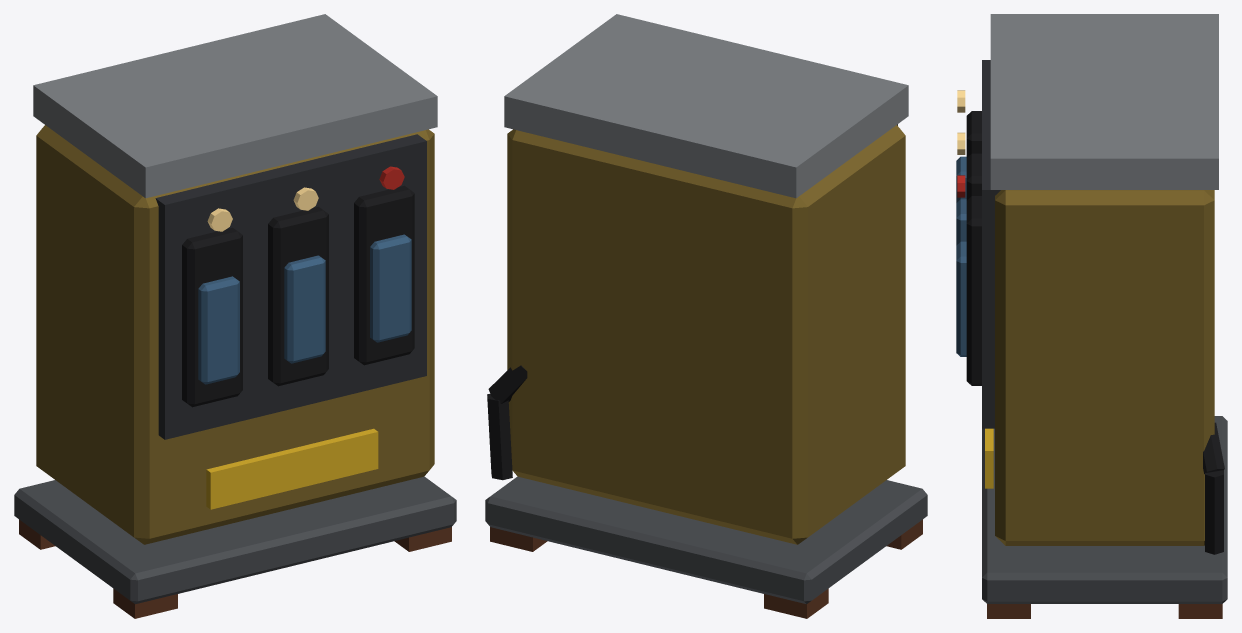
File: piece_charger.fbx
The picture shows the model from 3 angles, left to right: view 1: azimuth 30°, elevation 25°; view 2: azimuth 150°, elevation 25°; view 3: azimuth 270°, elevation 25°; orthographic projection.
Visible parts, largest first — view 1: piece_charger; view 2: piece_charger; view 3: piece_charger.
Boxes of the visible parts, x1,y1,x2,y2 form: piece_charger: (14,14,456,618); piece_charger: (485,14,927,618); piece_charger: (956,14,1227,618).
Bounding box in the file's own units: 0.765 × 0.9946 × 0.539.
